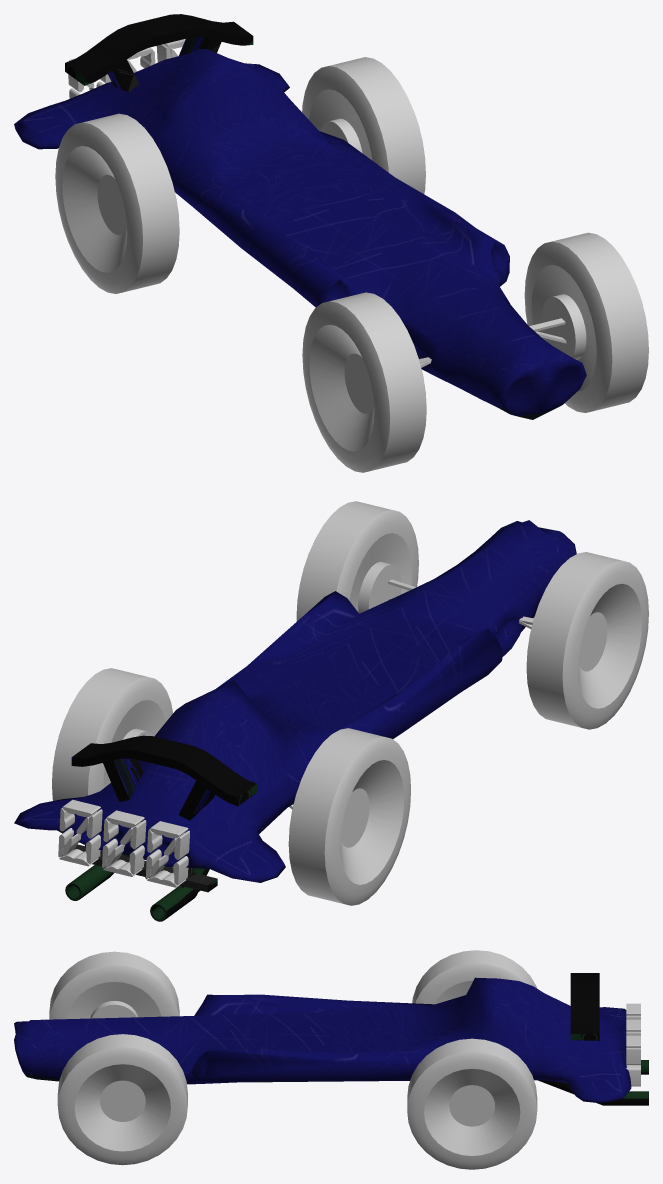
Rendered from race_car.fbx.
3 views of the same model, one above another, from view 1: azimuth 30°, elevation 25°; view 2: azimuth 150°, elevation 25°; view 3: azimuth 270°, elevation 25° (orthographic). The views are drawn at different scales.
Parts seen in each view (by area): view 1: Body, Wheel, Wheel.003, Wheel.002, Wheel.001, TopSpoller, Text; view 2: Body, Wheel, Wheel.003, Wheel.002, Wheel.001, TopSpoller, Text, ExhausePipe, BottomSpoller; view 3: Body, Wheel.001, Wheel.002, Wheel, Wheel.003, TopSpoller, Text, ExhausePipe.
Boxes of the visible parts, x1,y1,x2,y2 form: Body: (14, 49, 586, 419); Wheel: (302, 292, 426, 472); Wheel.003: (55, 113, 179, 293); Wheel.002: (524, 232, 648, 412); Wheel.001: (302, 57, 425, 193); TopSpoller: (65, 14, 253, 92); Text: (68, 39, 185, 98); Body: (14, 520, 576, 882); Wheel: (526, 552, 648, 729); Wheel.003: (288, 728, 410, 905); Wheel.002: (296, 501, 418, 621); Wheel.001: (52, 668, 172, 800); TopSpoller: (71, 735, 257, 820); Text: (58, 799, 189, 887); ExhausePipe: (65, 854, 209, 921); BottomSpoller: (61, 844, 217, 892); Body: (14, 977, 631, 1103); Wheel.001: (407, 1038, 537, 1169); Wheel.002: (57, 1034, 187, 1165); Wheel: (49, 951, 179, 1019); Wheel.003: (412, 950, 537, 1004); TopSpoller: (570, 973, 599, 1041); Text: (626, 1003, 640, 1086); ExhausePipe: (538, 1060, 648, 1105).
Size of the model in its own units: 171 by 107 by 439.
